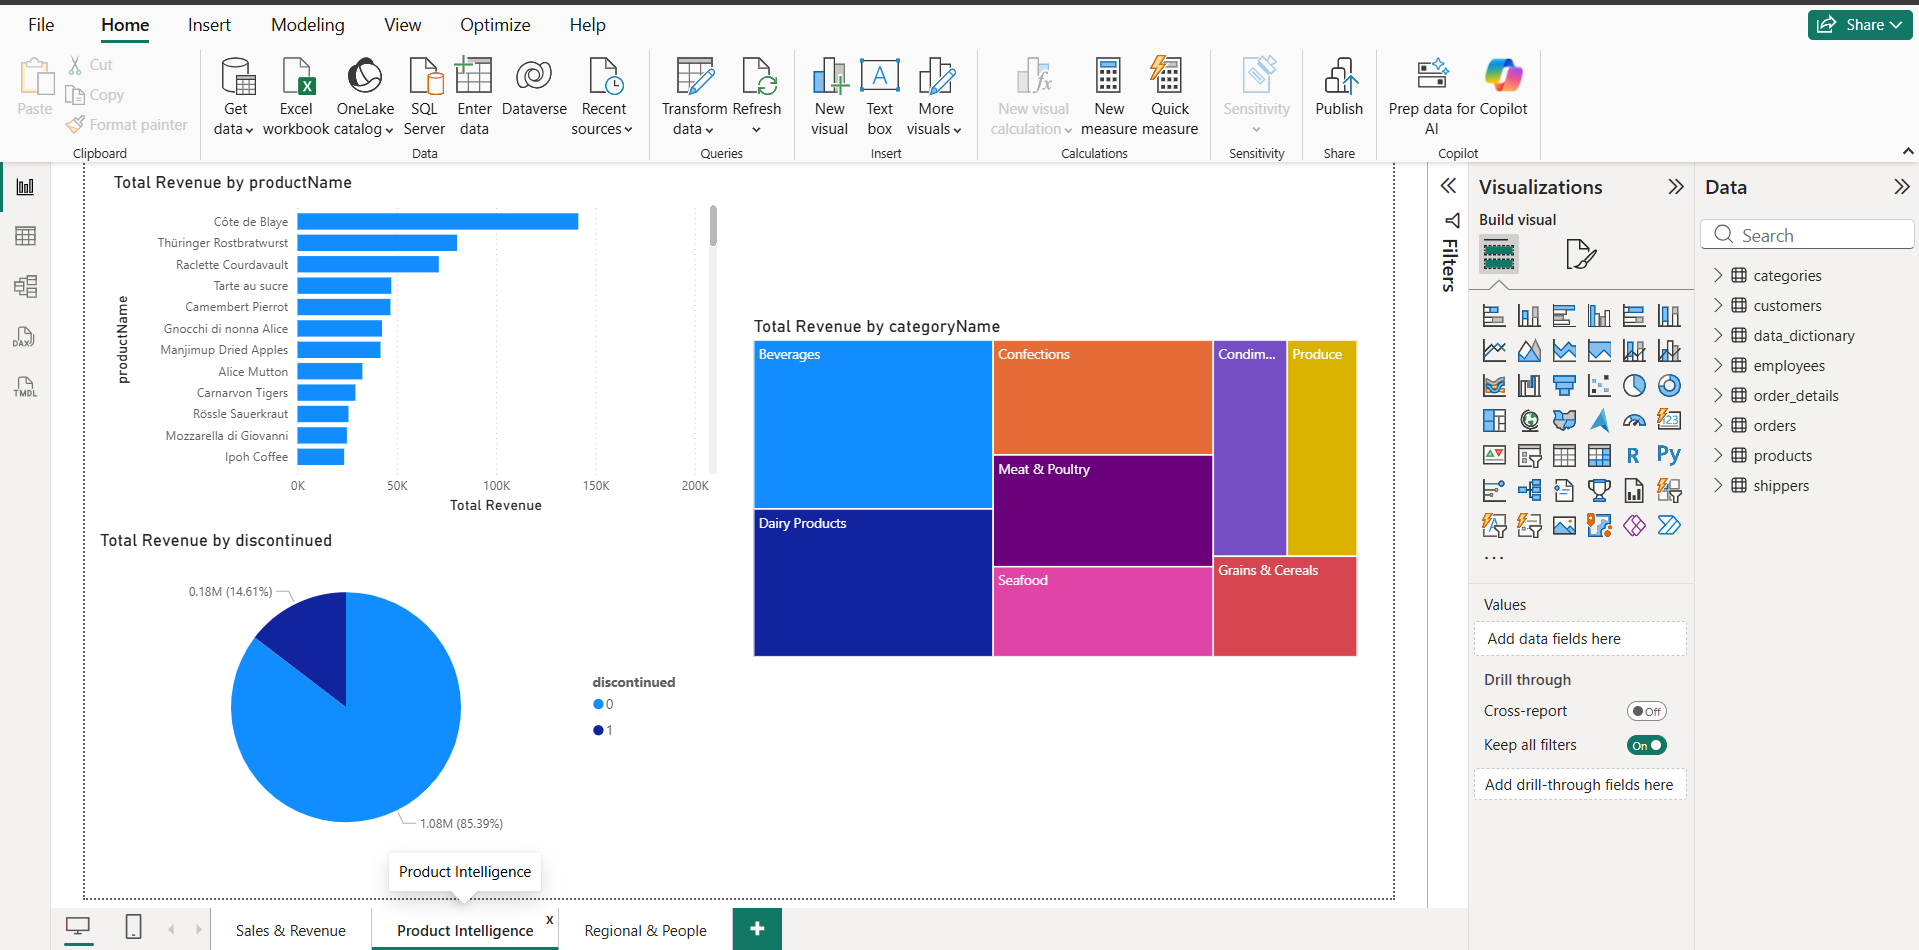

The dashboard page shown, as its layout file describes it:
{"tool":"powerbi","page":{"name":"Product Intelligence","canvas":[1280,720],"ordinal":1},"visuals":[{"type":"clusteredBarChart","fields":{"Category":["products.productName"],"Y":["categories.Total Revenue"]},"box":[23.2,9.8,600.4,338.7],"z":0},{"type":"pieChart","fields":{"Category":["products.discontinued"],"Y":["categories.Total Revenue"]},"box":[9.8,359.5,590.6,328.9],"z":1000},{"type":"treemap","fields":{"Group":["categories.categoryName"],"Values":["categories.Total Revenue"]},"box":[649.3,150.4,600.4,338.7],"z":2000}]}

Visuals, with their boxes on the page's 1280x720 design canvas (x1, y1, x2, y2). These are canvas units, not pixel positions in the 1919x950 screenshot, which may show the page scaled, cropped or inside an application window:
clusteredBarChart - products.productName x categories.Total Revenue: x1=23, y1=10, x2=624, y2=348
pieChart - products.discontinued x categories.Total Revenue: x1=10, y1=360, x2=600, y2=688
treemap - categories.categoryName x categories.Total Revenue: x1=649, y1=150, x2=1250, y2=489
